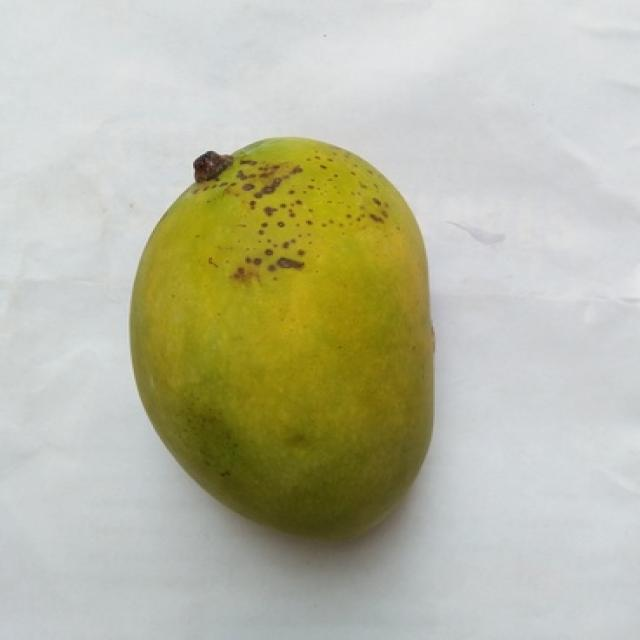Mango: (130, 138, 433, 540)
